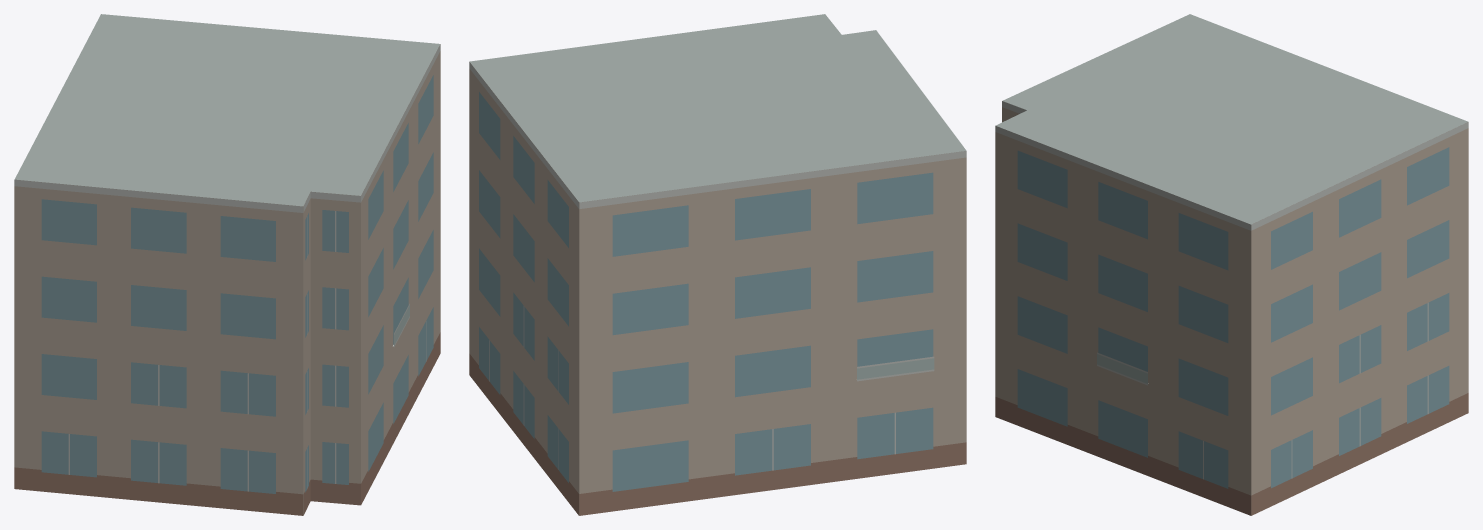
File: survey-upis-32983405.glb
3 views of the same model, side by side, from view 1: azimuth 30°, elevation 25°; view 2: azimuth 150°, elevation 25°; view 3: azimuth 270°, elevation 25° (orthographic). The views are drawn at different scales.
Visible parts, largest first — view 1: survey-upis-32983405.tmp; view 2: survey-upis-32983405.tmp; view 3: survey-upis-32983405.tmp.
Boxes of the visible parts, x1,y1,x2,y2 form: survey-upis-32983405.tmp: [14, 14, 440, 515]; survey-upis-32983405.tmp: [469, 14, 966, 515]; survey-upis-32983405.tmp: [995, 14, 1468, 515].
Bounding box in the file's own units: 17.69 × 11.4 × 16.8.
